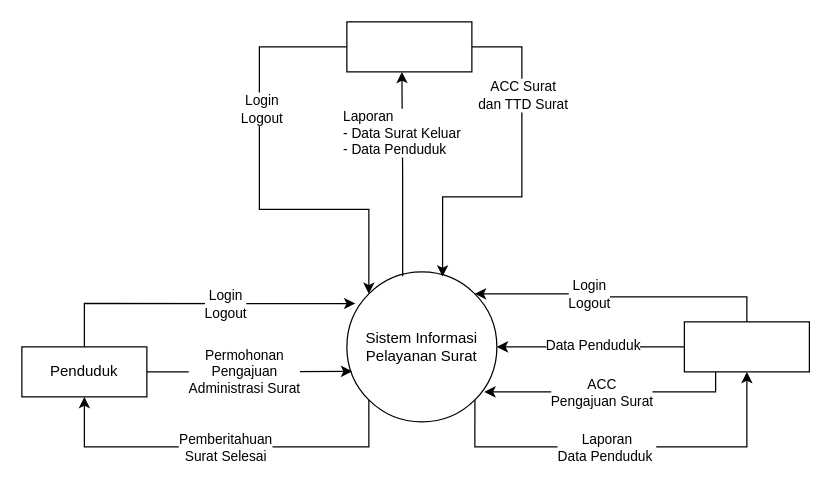
Some shapes in this 831 by 485 pixel diagram are drawn without their labels. The shapes that lost their labels are listed below. From the top down, each one's centre as x and y in pixels, then its label:
the point at 409,46: Kepala Desa
the point at 746,346: Ketua RT
